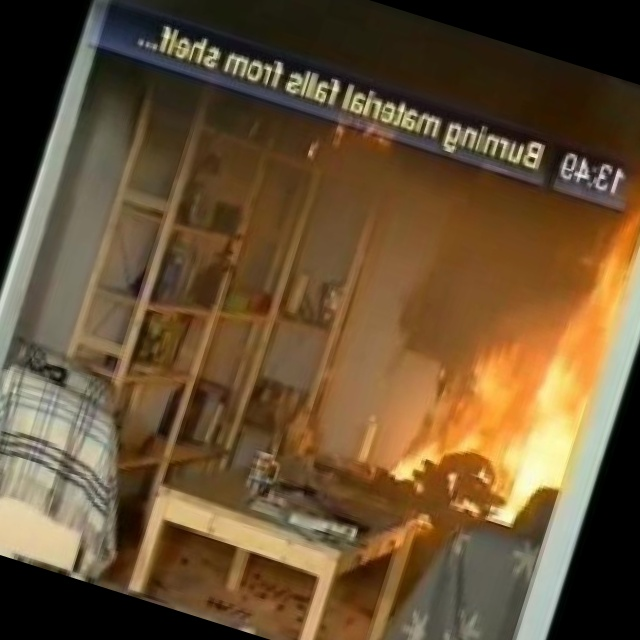fire: (436, 190, 640, 489)
